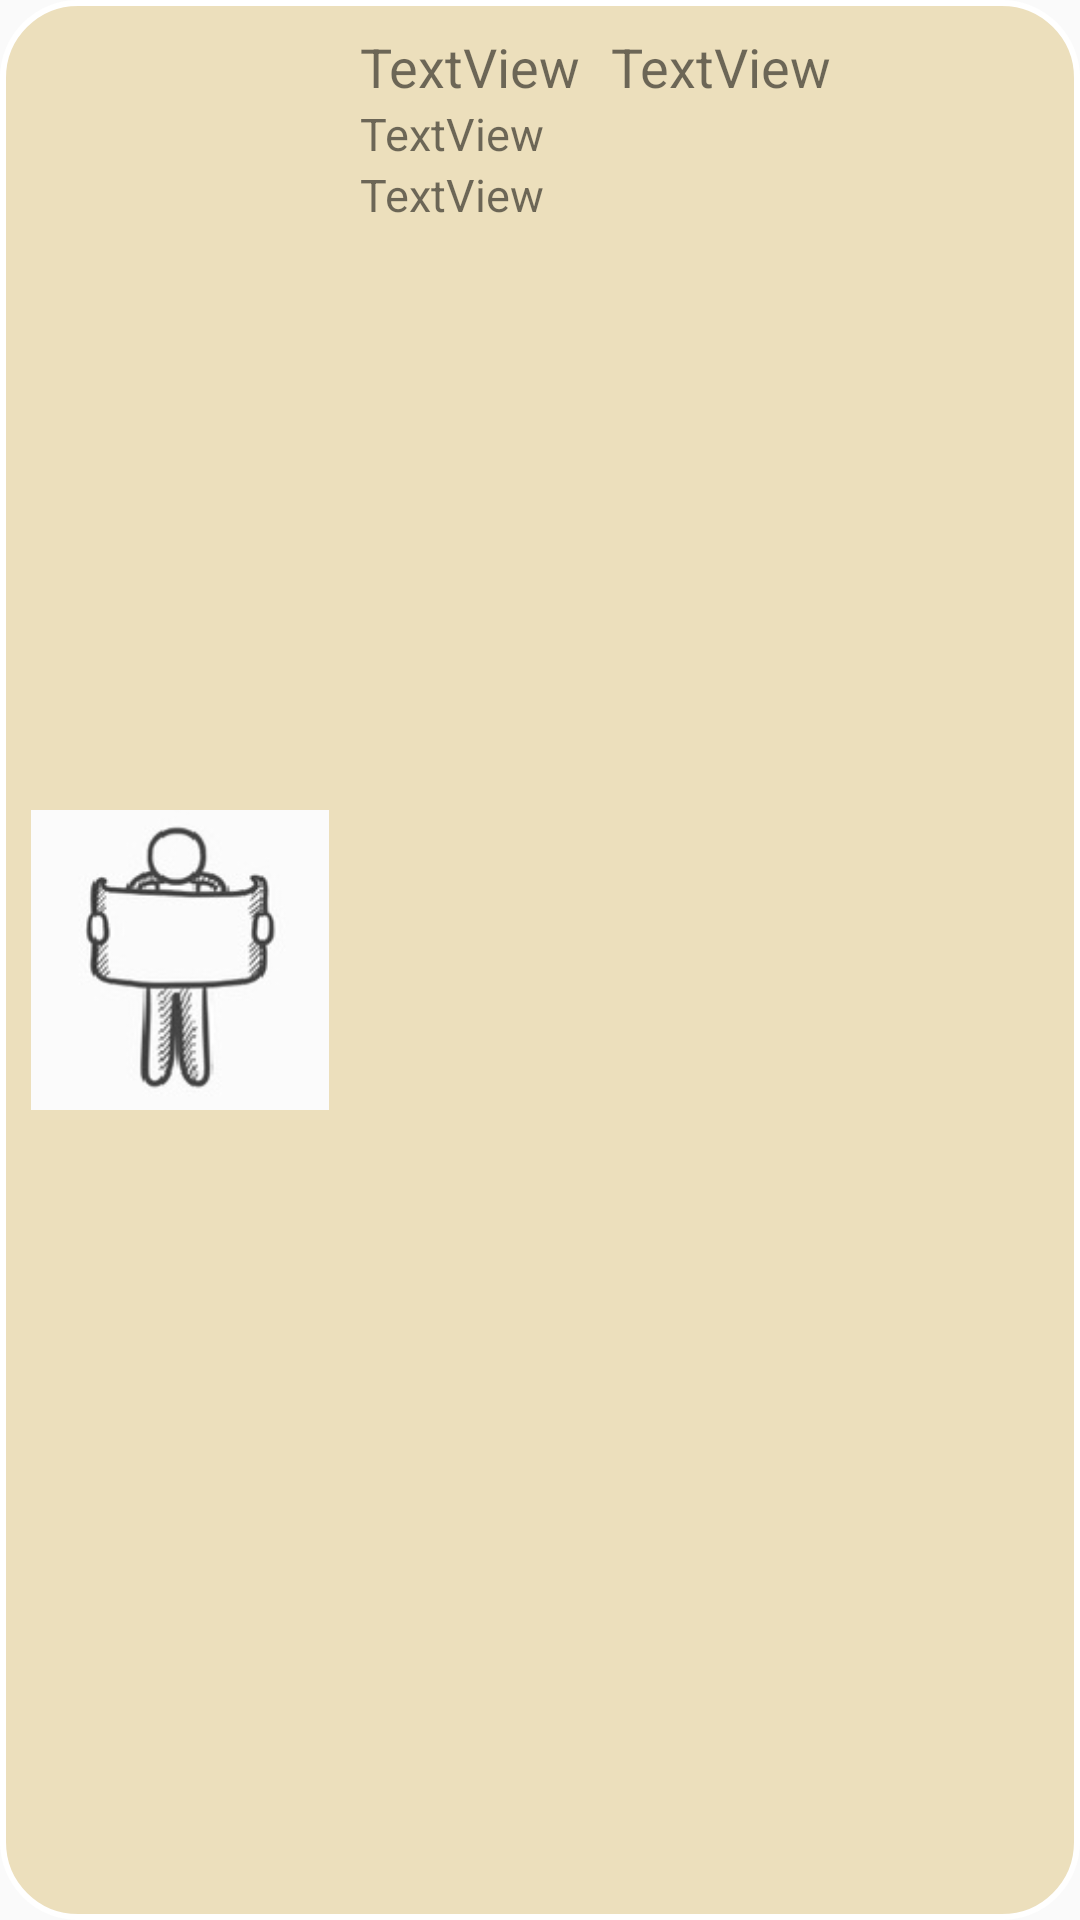

Point at icon controls on the screen. Image size 1080px×1920px, points as point (x, y).
map recorder: point (180, 960)
